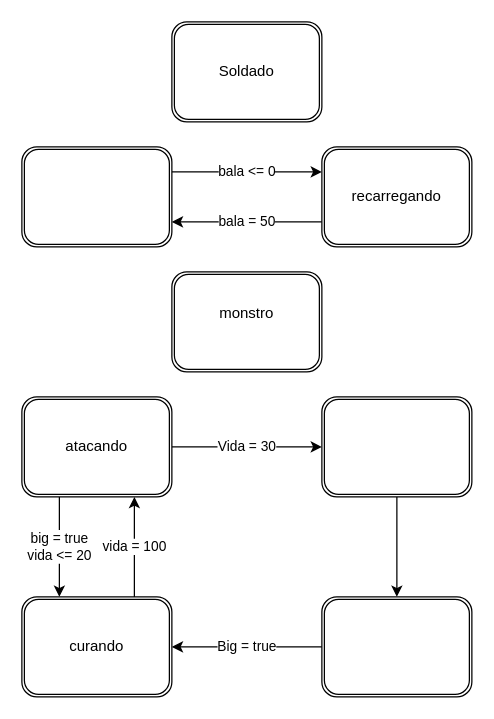
Image size: 494x719. Some labels were removed from this diagram. Here are the shapes that lost their labels. From the top down, the centre of each, then its label:
At (96,196): "atirando".
At (396,446): "stunned".
At (396,646): "crecendo".
